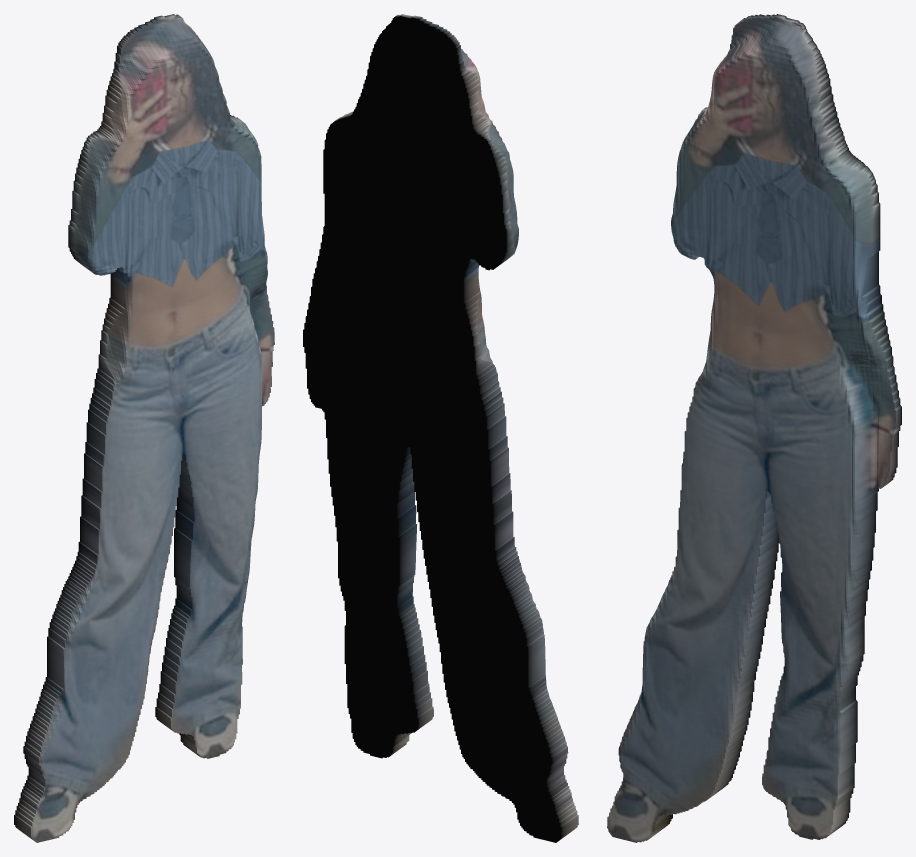
The model's file is avatar_20260224_091440.glb.
The picture shows the model from 3 angles, left to right: view 1: azimuth 30°, elevation 25°; view 2: azimuth 150°, elevation 25°; view 3: azimuth 330°, elevation 25°; orthographic projection. The views are drawn at different scales.
Visible parts, largest first — view 1: world; view 2: world; view 3: world.
Boxes of the visible parts, x1,y1,x2,y2 form: world: [14, 14, 274, 842]; world: [303, 14, 578, 842]; world: [607, 14, 901, 842].
Size of the model in its own units: 0.4939 by 1.44 by 0.0648.
